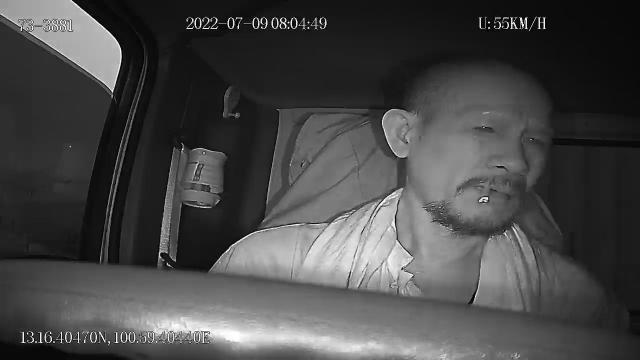SafeDriving: (462, 112, 504, 140), (514, 124, 553, 154)
Smoking: (477, 181, 491, 205)
